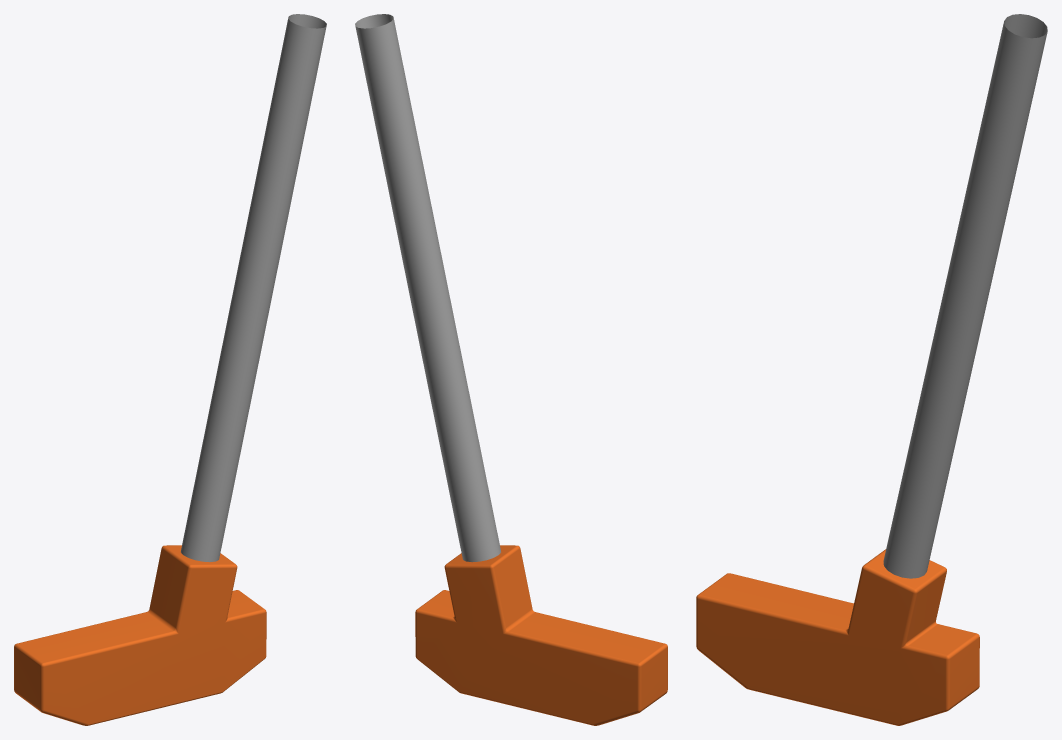
The model's file is Golf Putter.fbx.
3 views of the same model, side by side, from view 1: azimuth 30°, elevation 25°; view 2: azimuth 150°, elevation 25°; view 3: azimuth 330°, elevation 25° (orthographic). The views are drawn at different scales.
Parts seen in each view (by area): view 1: Golf Putter; view 2: Golf Putter; view 3: Golf Putter.
Part boxes in pixels (left/top/right/bottom): Golf Putter: left=14, top=14, right=326, bottom=725; Golf Putter: left=355, top=14, right=667, bottom=725; Golf Putter: left=696, top=14, right=1047, bottom=725.
Size of the model in its own units: 0.5444 by 0.0921 by 1.12.
